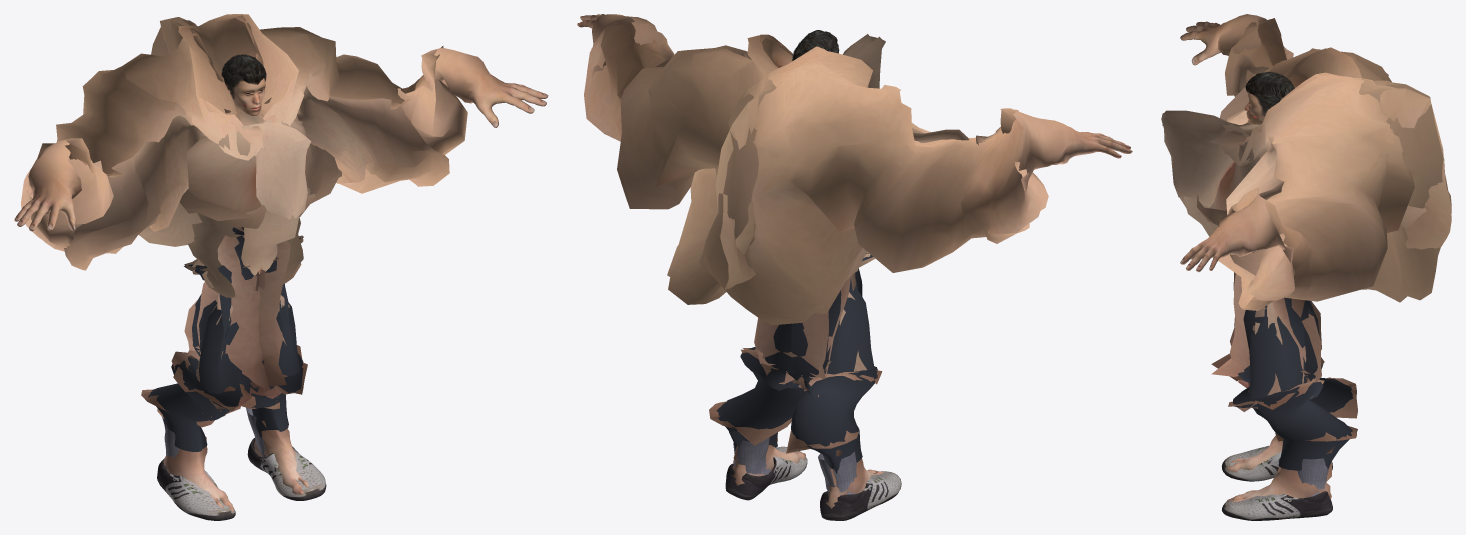
Rendered from body.glb.
The picture shows the model from 3 angles, left to right: view 1: azimuth 30°, elevation 25°; view 2: azimuth 150°, elevation 25°; view 3: azimuth 270°, elevation 25°; orthographic projection. The views are drawn at different scales.
Visible parts, largest first — view 1: Body, Pants, Shoes, Hair; view 2: Body, Pants, Shoes, Hair; view 3: Body, Pants, Shoes, Hair.
Part boxes in pixels (x1=…): Body: x1=14, y1=14, x2=548, y2=511; Pants: x1=148, y1=227, x2=303, y2=451; Shoes: x1=157, y1=407, x2=326, y2=520; Hair: x1=221, y1=54, x2=266, y2=99; Body: x1=577, y1=14, x2=1132, y2=508; Pants: x1=716, y1=253, x2=877, y2=473; Shoes: x1=725, y1=437, x2=901, y2=520; Hair: x1=792, y1=30, x2=839, y2=61; Body: x1=1161, y1=14, x2=1451, y2=502; Pants: x1=1233, y1=297, x2=1352, y2=470; Shoes: x1=1221, y1=446, x2=1332, y2=520; Hair: x1=1245, y1=72, x2=1294, y2=116.
Bounding box in the file's own units: 2.25 × 1.84 × 1.11.
6 materials, 4 textured.
